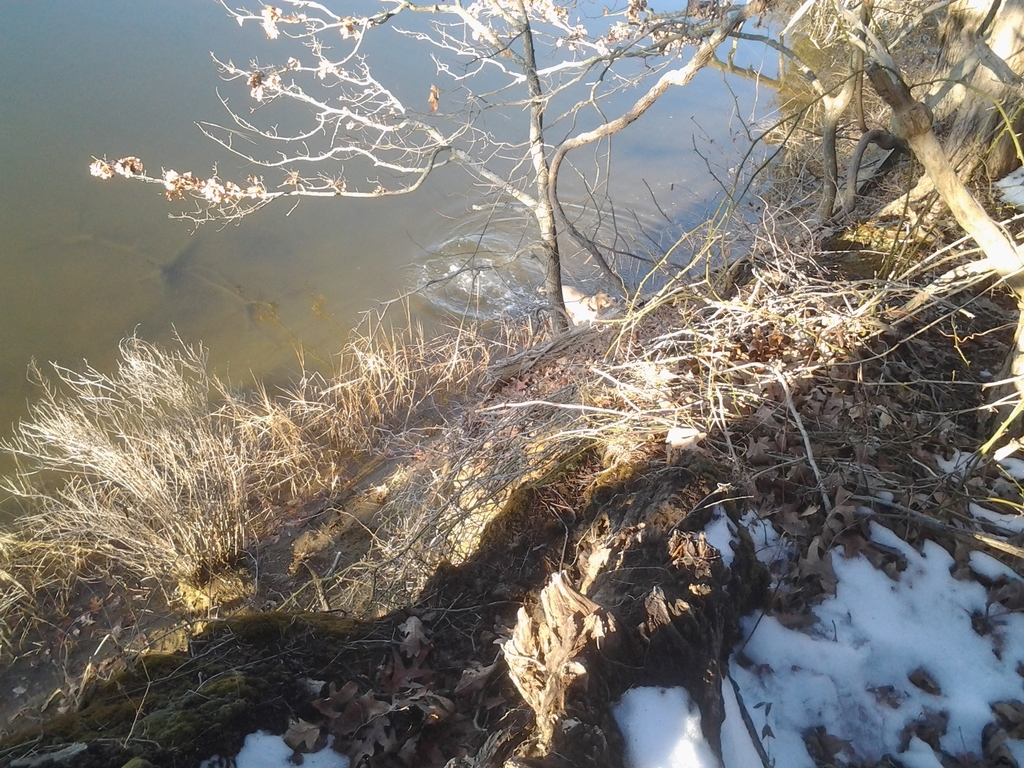Tree: (77, 0, 773, 337)
